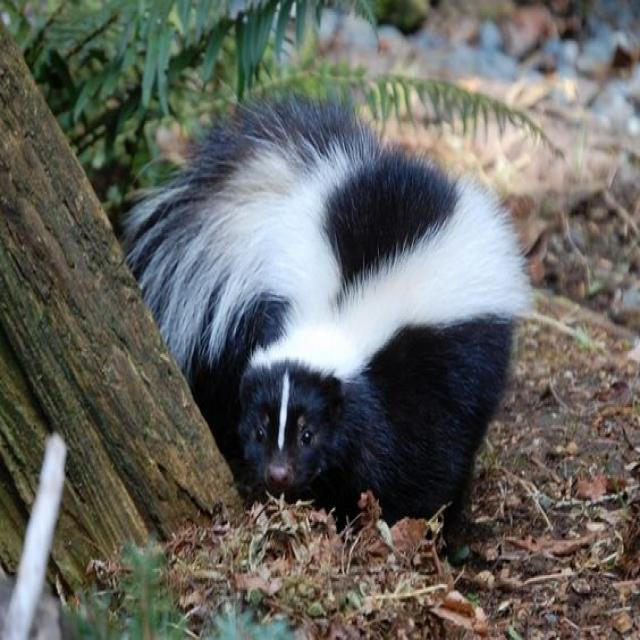Skunk: (150, 53, 556, 551)
